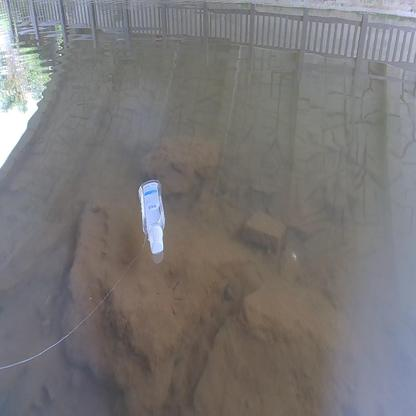plastic bottle: (137, 180, 167, 254)
